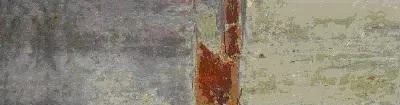Corrosion: (193, 42, 240, 105), (224, 1, 242, 59)
